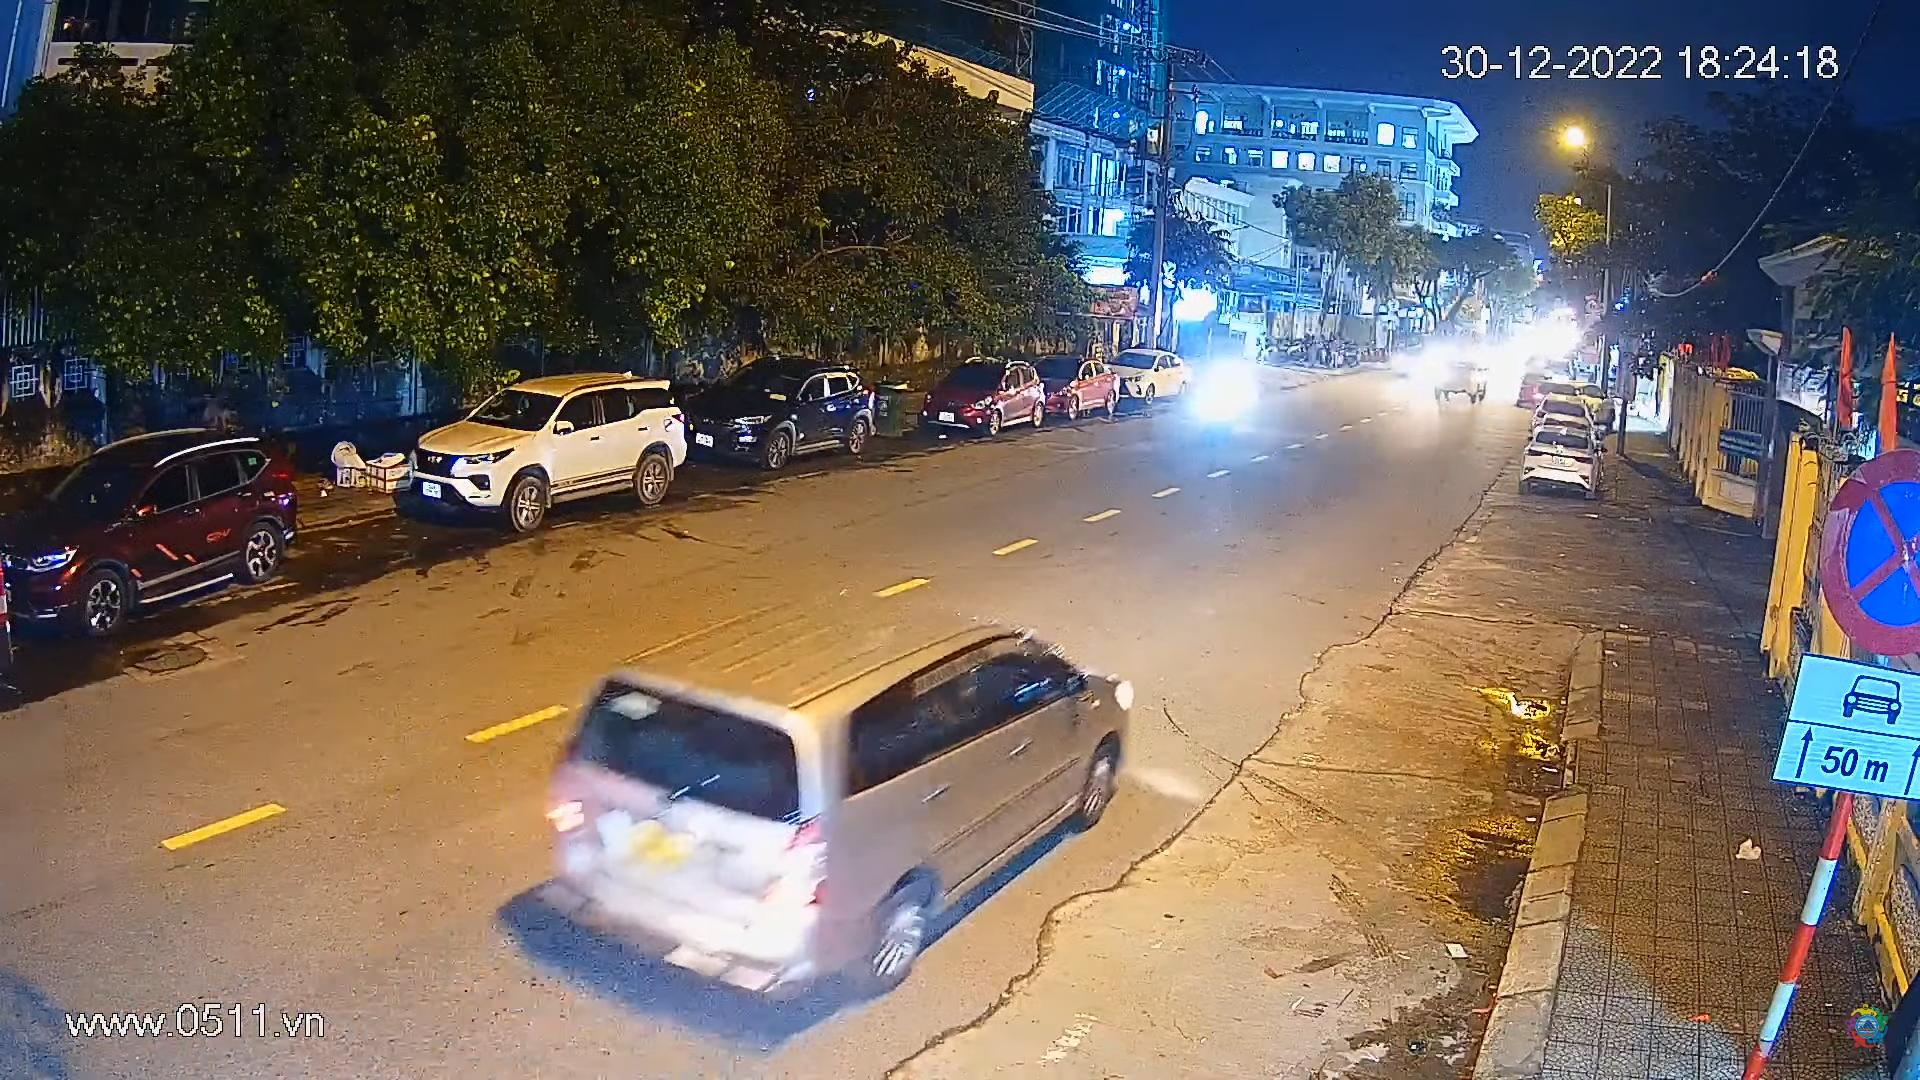car: (517, 582, 1149, 1042), (0, 411, 309, 658), (406, 360, 695, 534), (691, 357, 881, 473), (920, 356, 1048, 438), (1513, 421, 1602, 497), (1039, 351, 1125, 422), (1109, 347, 1187, 402), (1436, 357, 1489, 402), (1530, 392, 1590, 429), (1515, 371, 1551, 411)
